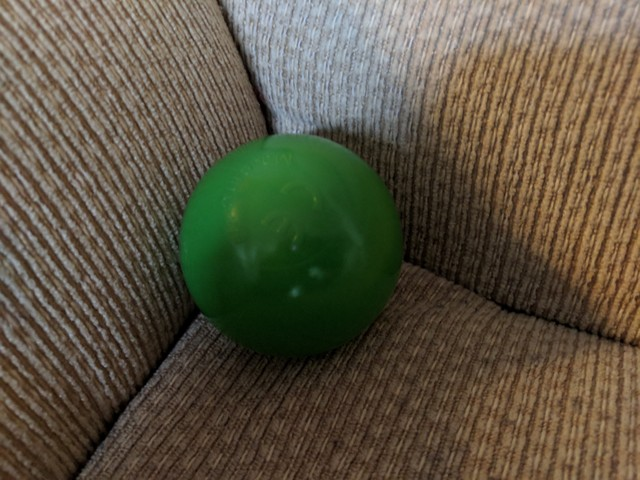ball: (179, 133, 406, 360)
